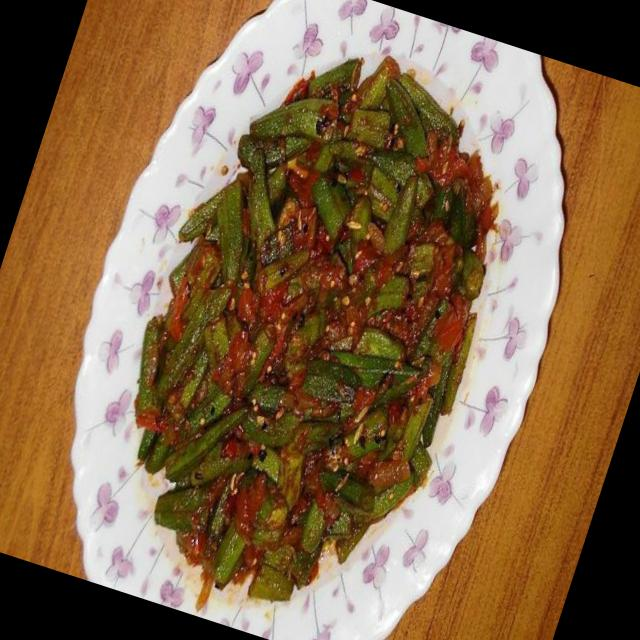BhindiMasala: (66, 12, 549, 640)
